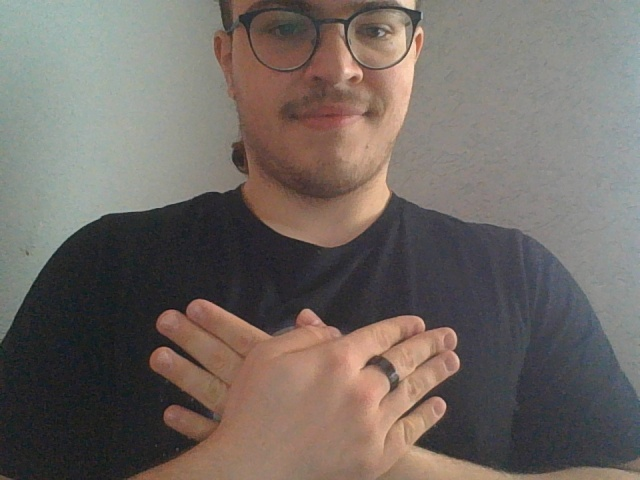Love: (148, 298, 463, 470)
